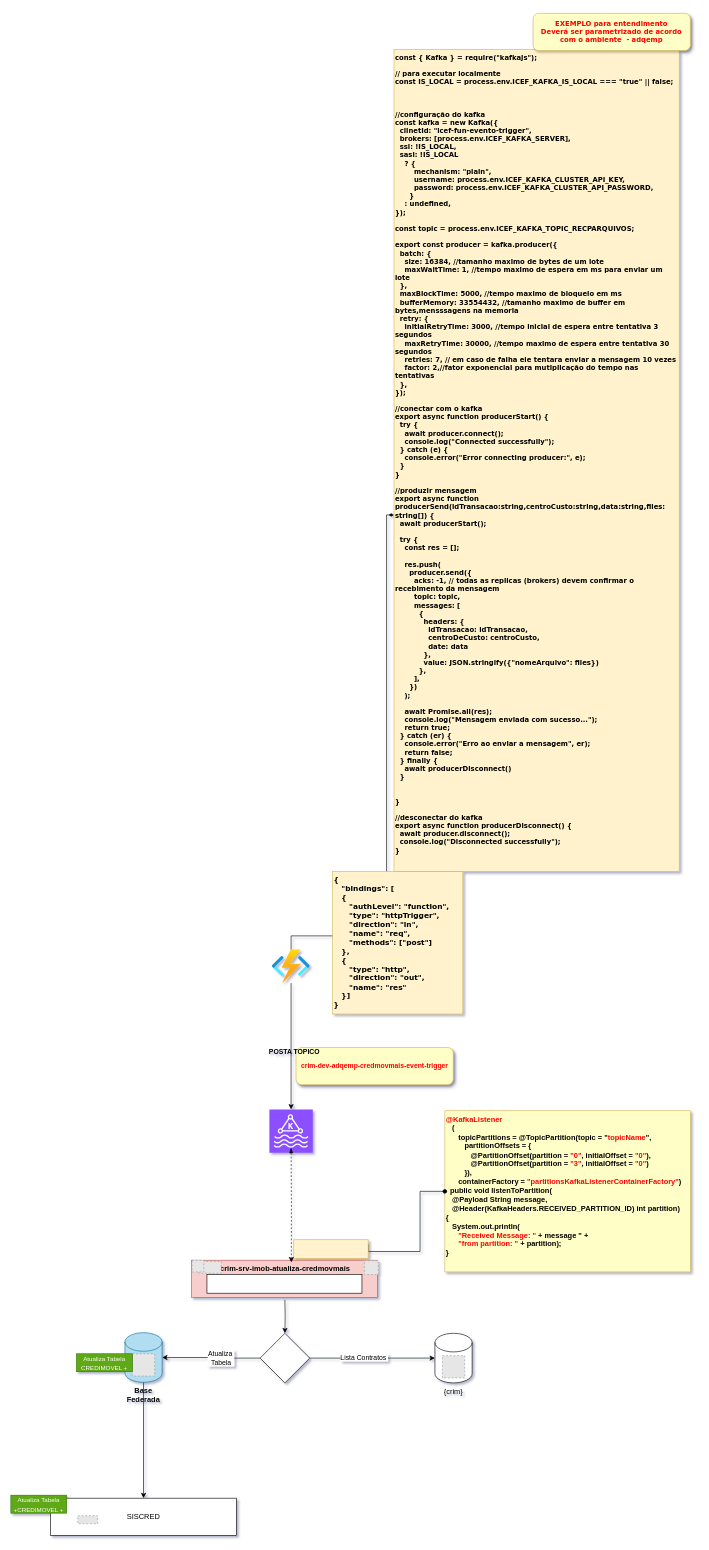
Image size: 709x1550. Some labels were removed from this diagram. Grey dashed boxes stand in for pictures. The shapes that lost their labels are listed below. From the top down, each one's centre as x and y in pixels, then its label:
At [291,966]: "Trigger Schedule Malha".
At [291,1131]: "KAFKA".
At [330,1248]: "@KafkaListener".
At [284,1283]: "/api/atualiza".
At [284,1358]: "baseContrato?".
